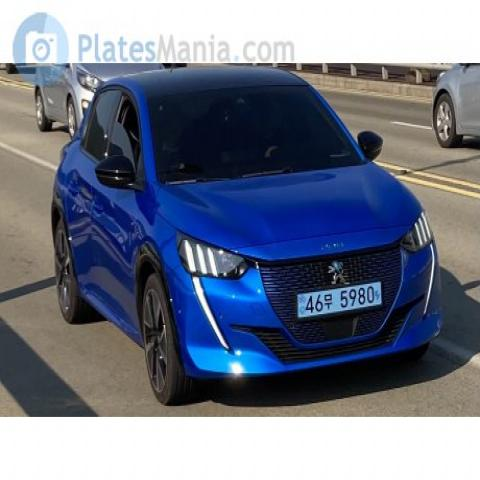LP: (287, 269, 390, 329)
